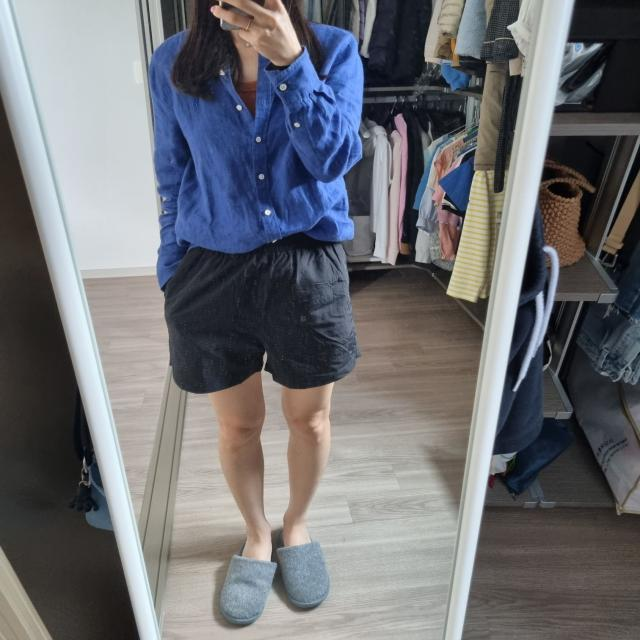shirt: (151, 20, 361, 292)
shortpants: (167, 232, 357, 402)
